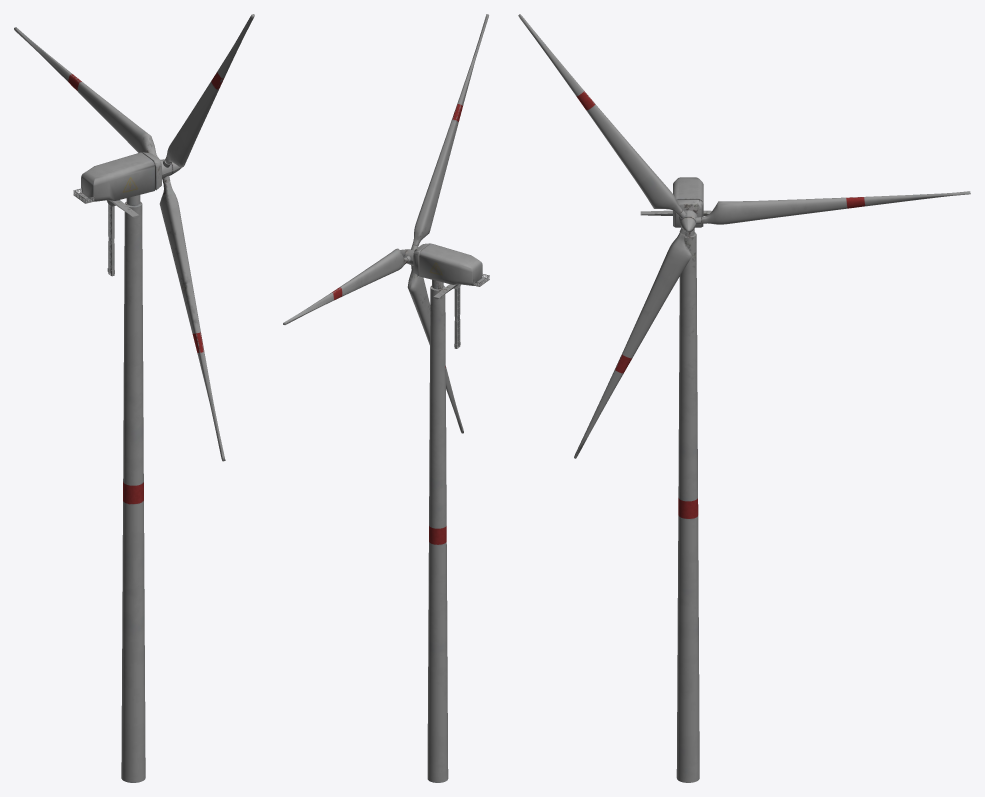
File: wind-turbine.glb
3 views of the same model, side by side, from view 1: azimuth 30°, elevation 25°; view 2: azimuth 150°, elevation 25°; view 3: azimuth 270°, elevation 25° (orthographic). The views are drawn at different scales.
Parts seen in each view (by area): view 1: hull_wind trub_0, propeller, red; view 2: hull_wind trub_0, propeller; view 3: hull_wind trub_0, propeller.
Part boxes in pixels (x1=…): hull_wind trub_0: x1=73, y1=152, x2=161, y2=782; propeller: x1=14, y1=14, x2=254, y2=461; red: x1=68, y1=72, x2=223, y2=352; hull_wind trub_0: x1=413, y1=243, x2=489, y2=782; propeller: x1=283, y1=14, x2=488, y2=433; hull_wind trub_0: x1=640, y1=177, x2=711, y2=782; propeller: x1=518, y1=14, x2=970, y2=458.
Bounding box in the file's own units: 13.75 × 103 × 54.06.
2 materials, 2 textured.
